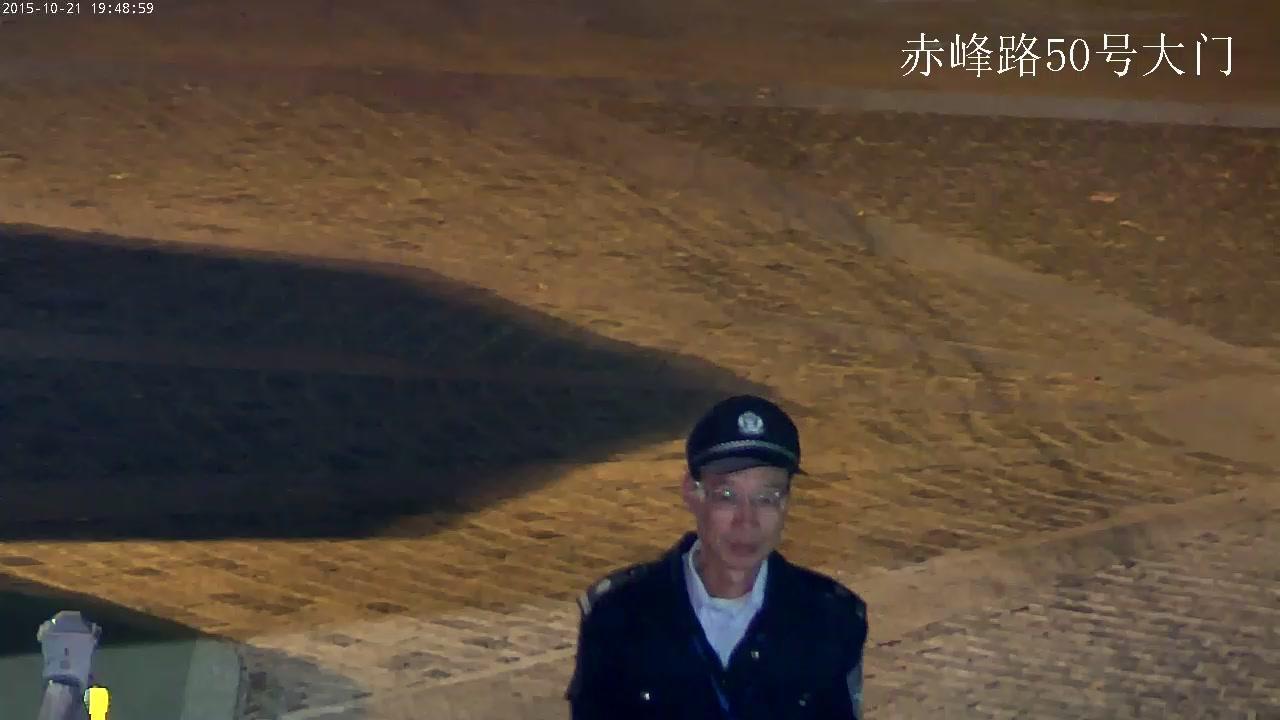face: (696, 466, 786, 568)
